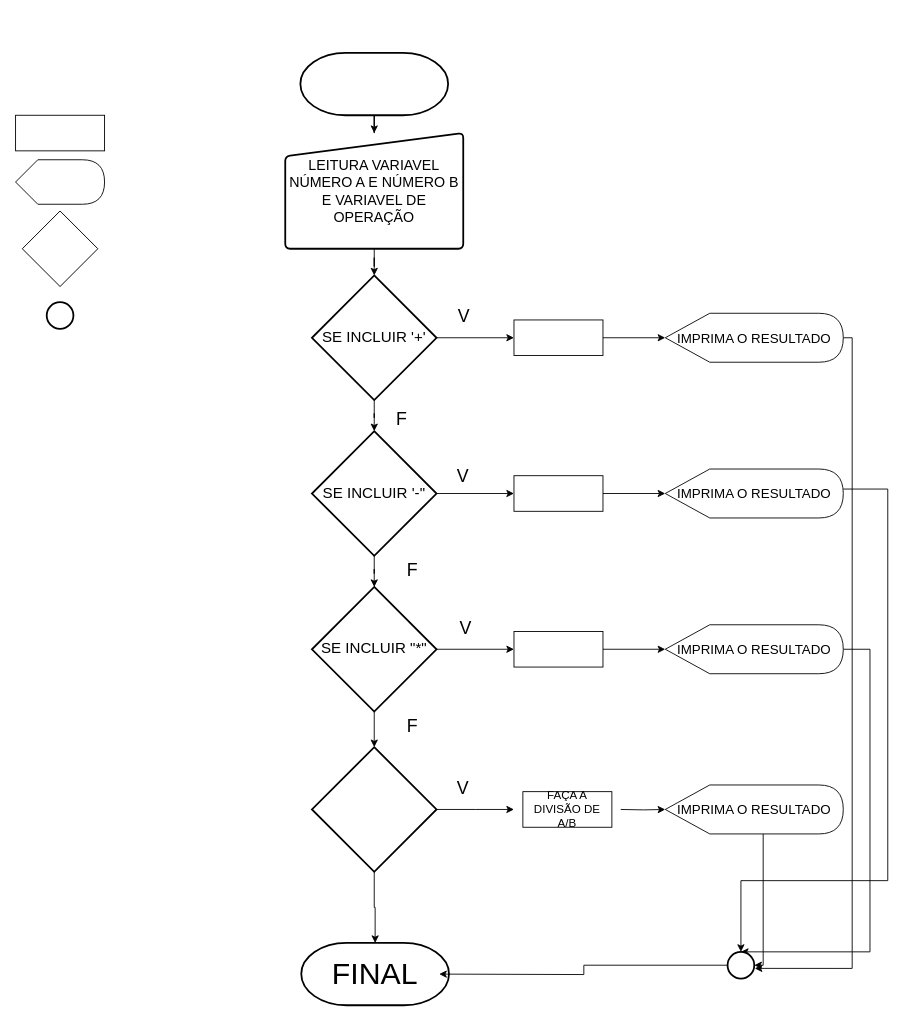
The diagram is 910 pixels wide and 1021 high, and some of its shapes have lost their labels. Here are the shapes that lost their labels. From the top down, the centre of each, then its label:
[374,84]: INICIO
[558,337]: FAÇA A SOMA DE A+B
[558,493]: FAÇA A SUBTRAÇÃO DE A-B
[558,649]: FAÇA A MULTIPLICAÇÃO DE A*B
[374,809]: SE INCLUIR "/"
